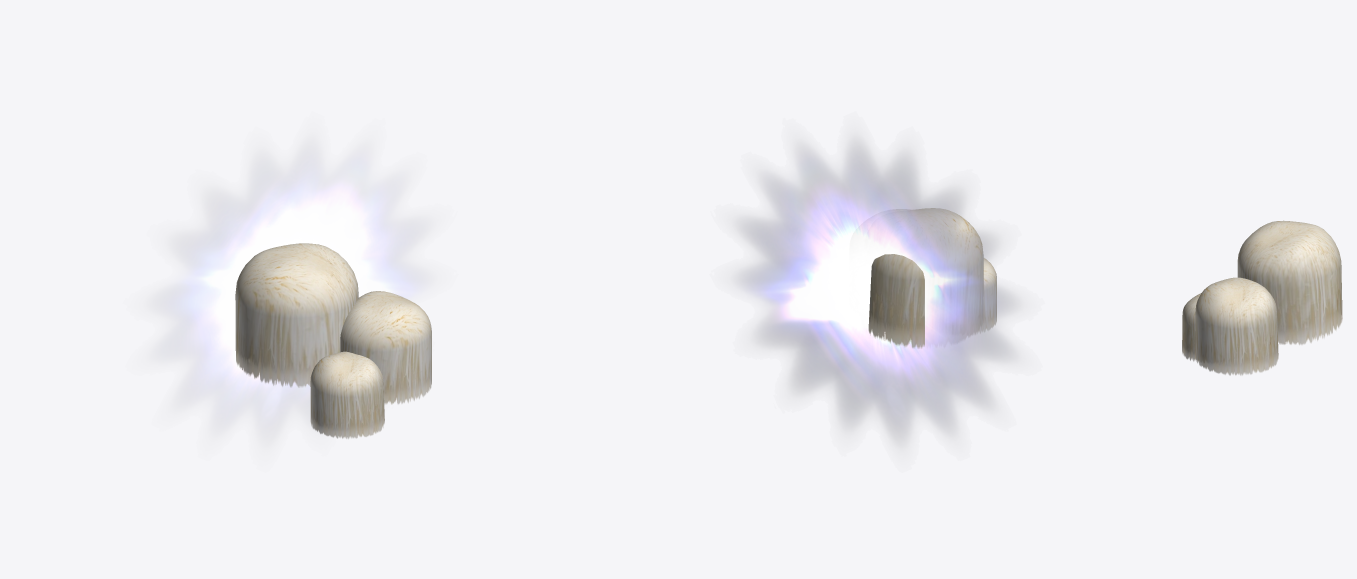
The model's file is ezhovik.glb.
3 views of the same model, side by side, from view 1: azimuth 30°, elevation 25°; view 2: azimuth 150°, elevation 25°; view 3: azimuth 270°, elevation 25° (orthographic). The views are drawn at different scales.
Visible parts, largest first — view 1: fx, Cylinder.005, Cylinder.002, Cylinder.004; view 2: fx, Cylinder.005, Cylinder.004; view 3: Cylinder.005, Cylinder.002, Cylinder.004.
Part boxes in pixels (x1,y1,x2,y2): fx: (147,137,433,446); Cylinder.005: (235,243,358,387); Cylinder.002: (340,291,431,404); Cylinder.004: (310,351,384,438); fx: (734,137,1020,446); Cylinder.005: (868,208,983,348); Cylinder.004: (975,258,996,333); Cylinder.005: (1237,220,1342,344); Cylinder.002: (1195,277,1278,375); Cylinder.004: (1182,293,1204,361).
Size of what is drawn, in the model's own units: 13.35 by 13.35 by 3.9.
2 materials, 2 textured.
